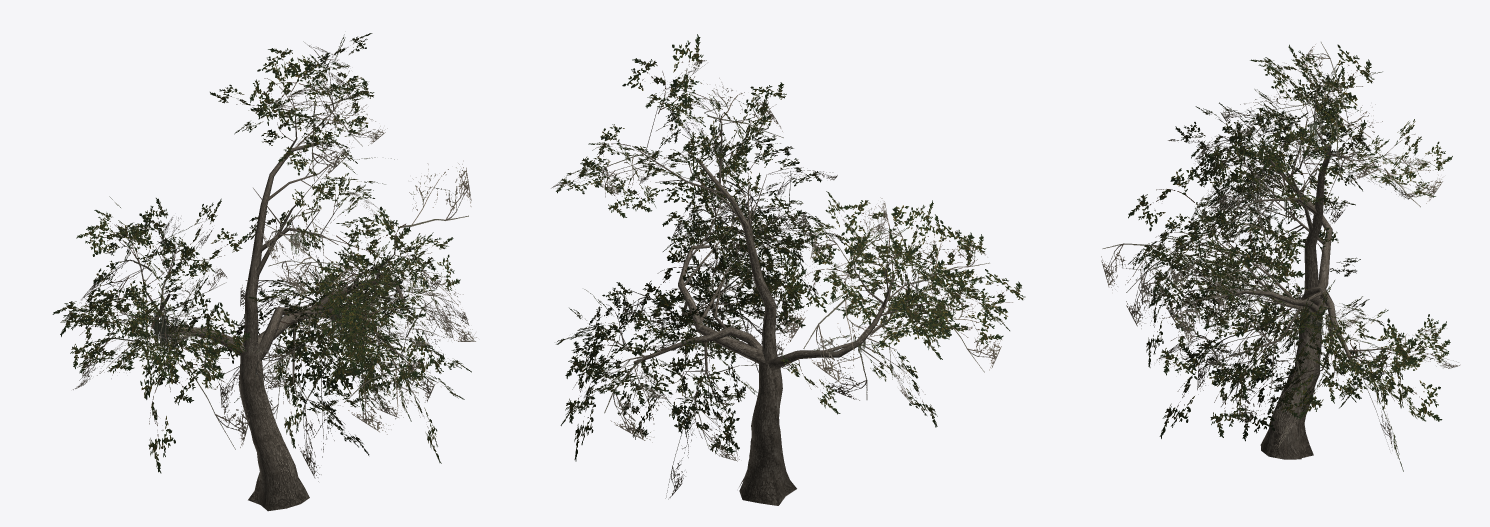
Rendered from tree_v6_decid_gothic_twisted_summer_lite.glb.
3 renders of one model, left to right at view 1: azimuth 30°, elevation 25°; view 2: azimuth 150°, elevation 25°; view 3: azimuth 270°, elevation 25°, orthographic.
Visible parts, largest first — view 1: tree_v6_decid_gothic_twisted_summer_LOD0; view 2: tree_v6_decid_gothic_twisted_summer_LOD0; view 3: tree_v6_decid_gothic_twisted_summer_LOD0.
Boxes of the visible parts, x1,y1,x2,y2 form: tree_v6_decid_gothic_twisted_summer_LOD0: [52, 33, 476, 511]; tree_v6_decid_gothic_twisted_summer_LOD0: [551, 34, 1025, 505]; tree_v6_decid_gothic_twisted_summer_LOD0: [1101, 42, 1460, 471].
Size of what is drawn, in the model's own units: 11.08 by 10.47 by 7.91.
Materials: 1 (1 with a texture image).
